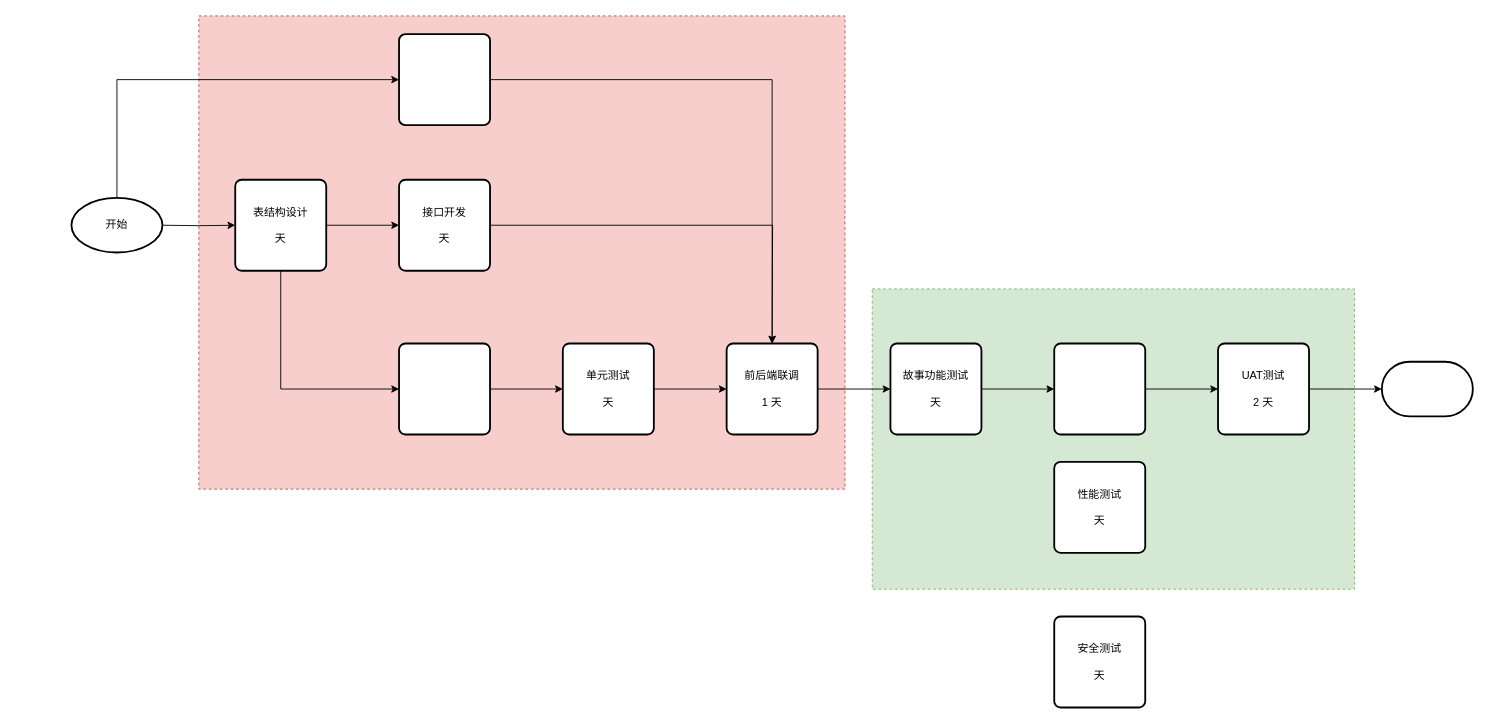
Image size: 1489x724. Some labels were removed from this diagram. Here are the shapes that lost their labels. From the top down, the centre of each, then its label:
pixel 444 79: 前端页面开发 7 天
pixel 444 388: 后端功能开发 天
pixel 1099 388: 功能回归测试 2 天
pixel 1426 388: 上线
